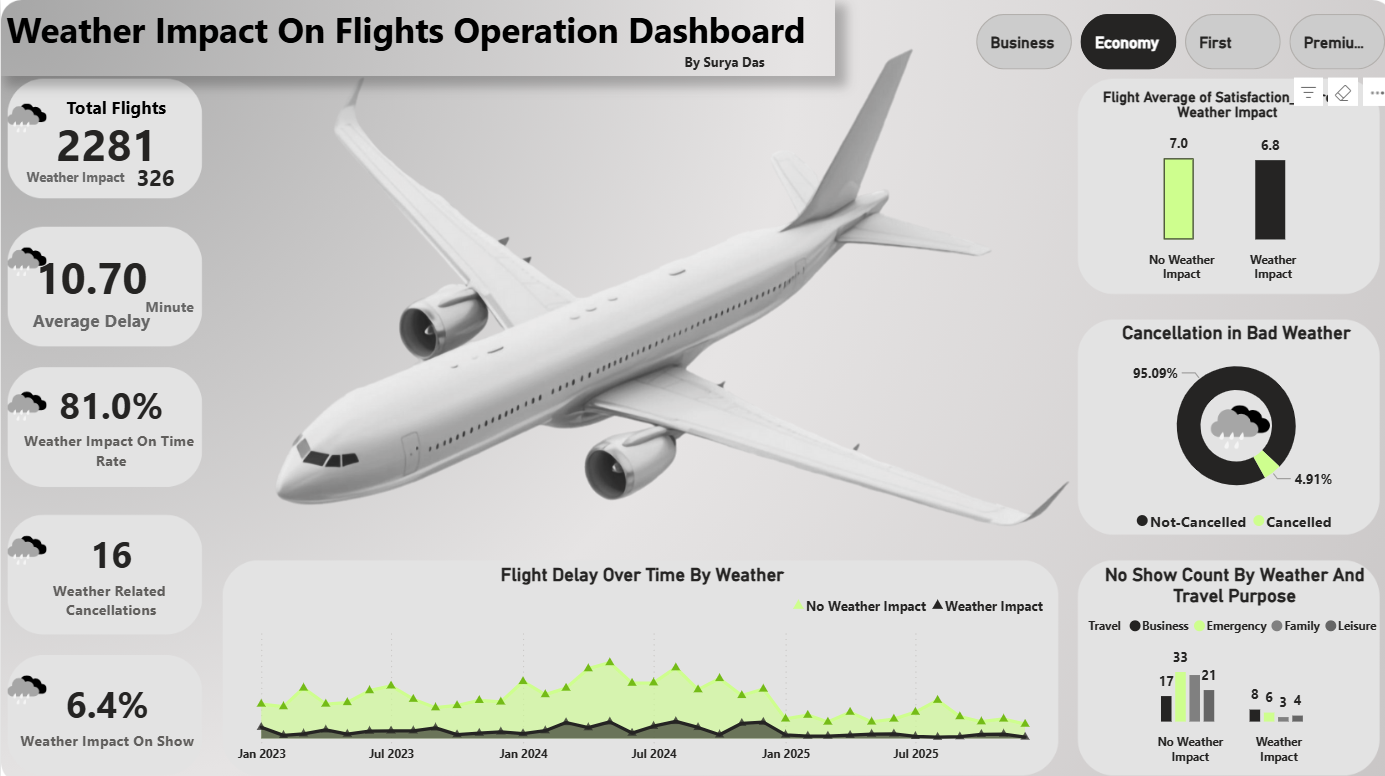

This screenshot's page, from the dashboard's own definition file:
{"tool":"powerbi","page":{"name":"Page 1","canvas":[1280,720],"ordinal":0},"visuals":[{"type":"textbox","box":[0,0,767.1,70],"z":0},{"type":"card","fields":{"Values":["Measures (2).Total Flight count"]},"box":[28.8,93.3,137.2,78.2],"z":1000},{"type":"textbox","box":[54.9,82.3,111.1,41.2],"z":2000},{"type":"card","fields":{"Values":["Measures (2).Total_flights(Weather impacted)"]},"box":[74.1,141.3,137.2,48],"z":3000},{"type":"textbox","box":[17.8,148.2,113.9,35.7],"z":4000},{"type":"card","fields":{"Values":["Measures (2).Average weather delay"]},"box":[15.1,201.7,137.2,129],"z":5000},{"type":"textbox","box":[127.6,267.6,75.5,38.4],"z":6000},{"type":"card","fields":{"Values":["Measures (2).Weather Impact On Time Rate"]},"box":[0,306,203.1,150.9],"z":7000},{"type":"card","fields":{"Values":["Measures (2).Weather Related Cancellations"]},"box":[0,444.6,203.1,148.2],"z":8000},{"type":"card","fields":{"Values":["Measures (2).Weather Impact On Show"]},"box":[4.1,592.8,186.6,127.6],"z":9000},{"type":"clusteredColumnChart","title":"Flight Average of Satisfaction_Score by Weather Impact ","fields":{"Category":["Flights_Dataset.Weather Impact Status"],"Y":["Avg(Flights_Dataset.Flight_Satisfaction_Score)"]},"box":[988.1,82,278.7,185.8],"z":10000},{"type":"donutChart","title":"Cancellation in Bad Weather","fields":{"Category":["Flights_Dataset.Cancellation_Label"],"Y":["CountNonNull(Flights_Dataset.Flight_ID)"]},"box":[1006.2,295.6,260.6,202.7],"z":11000},{"type":"clusteredColumnChart","title":"No Show Count By Weather And Travel Purpose","fields":{"Y":["Sum(Flights_Dataset.No_Show)"],"Category":["Flights_Dataset.Weather Impact Status"],"Series":["Flights_Dataset.Travel_Purpose"]},"box":[988.1,518.8,292,191.8],"z":12000},{"type":"areaChart","title":"Flight Delay Over Time By Weather","fields":{"Y":["Sum(Flights_Dataset.Delay_Minutes)"],"Category":["Flights_Dataset.Departure_Time.Variation.Date Hierarchy.Year","Flights_Dataset.Departure_Time.Variation.Date Hierarchy.Month"],"Series":["Flights_Dataset.Weather Impact Status"]},"box":[211.1,518.8,756.4,191.8],"z":13000},{"type":"advancedSlicerVisual","fields":{"Values":["Flights_Dataset.Seat_Class"]},"box":[891.6,8.4,388.5,61.5],"z":14000}]}

Visuals, with their boxes on the page's 1280x720 design canvas (x1, y1, x2, y2). These are canvas units, not pixel positions in the 1385x776 screenshot, which may show the page scaled, cropped or inside an application window:
textbox: 0, 0, 767, 70
card - Measures (2).Total Flight count: 29, 93, 166, 172
textbox: 55, 82, 166, 124
card - Measures (2).Total_flights(Weather impacted): 74, 141, 211, 189
textbox: 18, 148, 132, 184
card - Measures (2).Average weather delay: 15, 202, 152, 331
textbox: 128, 268, 203, 306
card - Measures (2).Weather Impact On Time Rate: 0, 306, 203, 457
card - Measures (2).Weather Related Cancellations: 0, 445, 203, 593
card - Measures (2).Weather Impact On Show: 4, 593, 191, 720
"Flight Average of Satisfaction_Score by Weather Impact " clusteredColumnChart: 988, 82, 1267, 268
"Cancellation in Bad Weather" donutChart: 1006, 296, 1267, 498
"No Show Count By Weather And Travel Purpose" clusteredColumnChart: 988, 519, 1280, 711
"Flight Delay Over Time By Weather" areaChart: 211, 519, 968, 711
advancedSlicerVisual - Flights_Dataset.Seat_Class: 892, 8, 1280, 70
